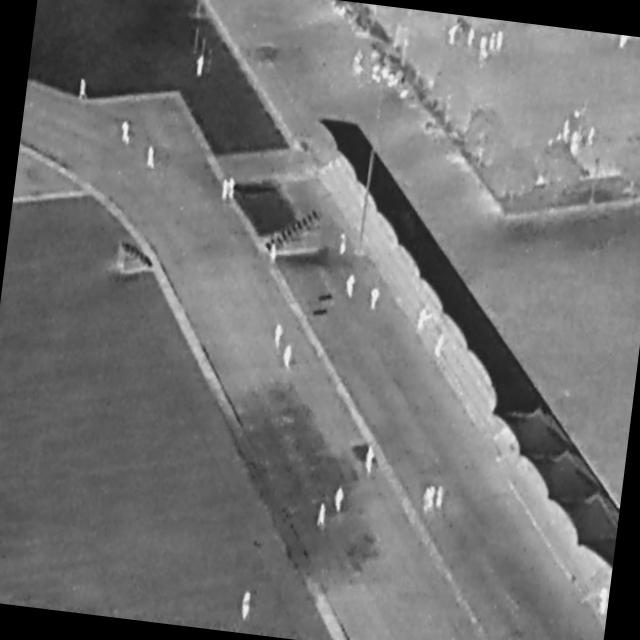person: (351, 48, 367, 79), (240, 591, 254, 622), (596, 586, 610, 617), (447, 23, 462, 47), (369, 287, 383, 311), (365, 445, 376, 475), (120, 121, 133, 146), (146, 145, 159, 170), (317, 502, 329, 528), (345, 274, 357, 300), (436, 333, 447, 361), (282, 344, 294, 369), (479, 36, 491, 61), (561, 120, 573, 145), (334, 487, 345, 514), (273, 324, 284, 350), (423, 488, 434, 514), (338, 233, 349, 256), (79, 79, 90, 101), (436, 487, 446, 510), (196, 56, 206, 78), (220, 180, 230, 202), (227, 178, 237, 200), (428, 486, 437, 509), (467, 28, 477, 48), (496, 31, 505, 53), (270, 245, 279, 266), (588, 127, 597, 147), (490, 32, 498, 52), (617, 35, 629, 48)
